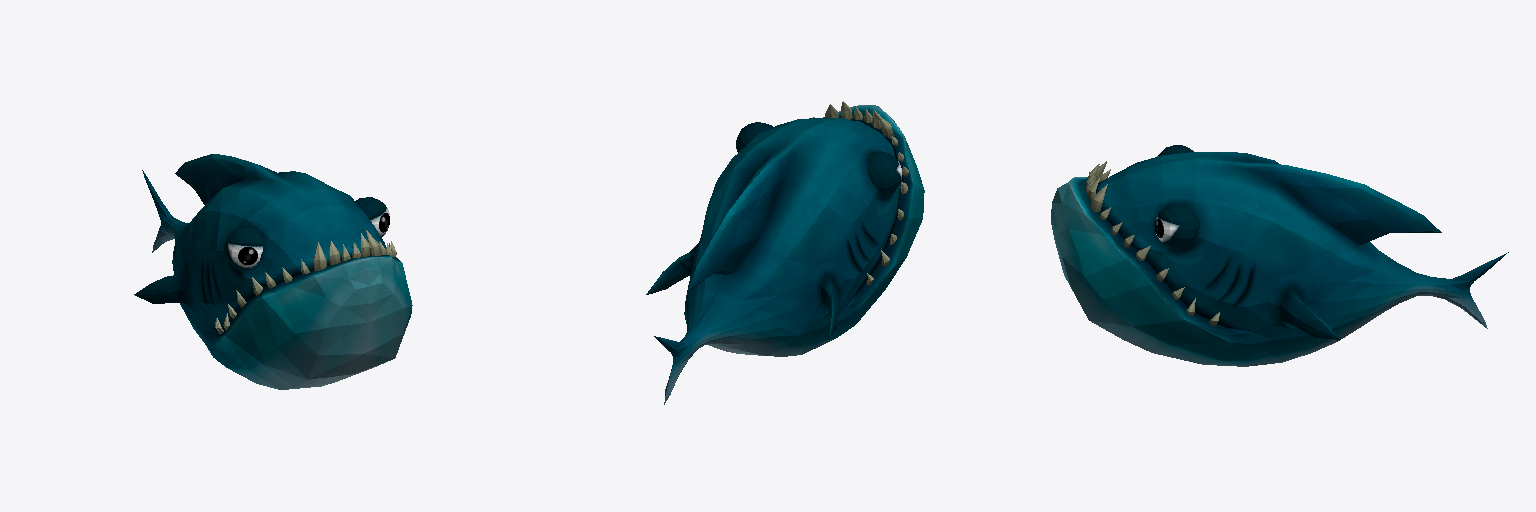
3 renders of one model, left to right at view 1: azimuth 30°, elevation 25°; view 2: azimuth 150°, elevation 25°; view 3: azimuth 270°, elevation 25°, orthographic.
Visible parts, largest first — view 1: polySurface14; view 2: polySurface14; view 3: polySurface14.
Part boxes in pixels (bbox=[...]): polySurface14: bbox=[134, 154, 412, 389]; polySurface14: bbox=[646, 101, 924, 404]; polySurface14: bbox=[1051, 145, 1508, 366].
Bounding box in the file's own units: 5.15 × 5.2 × 11.17.
1 materials, 1 textured.